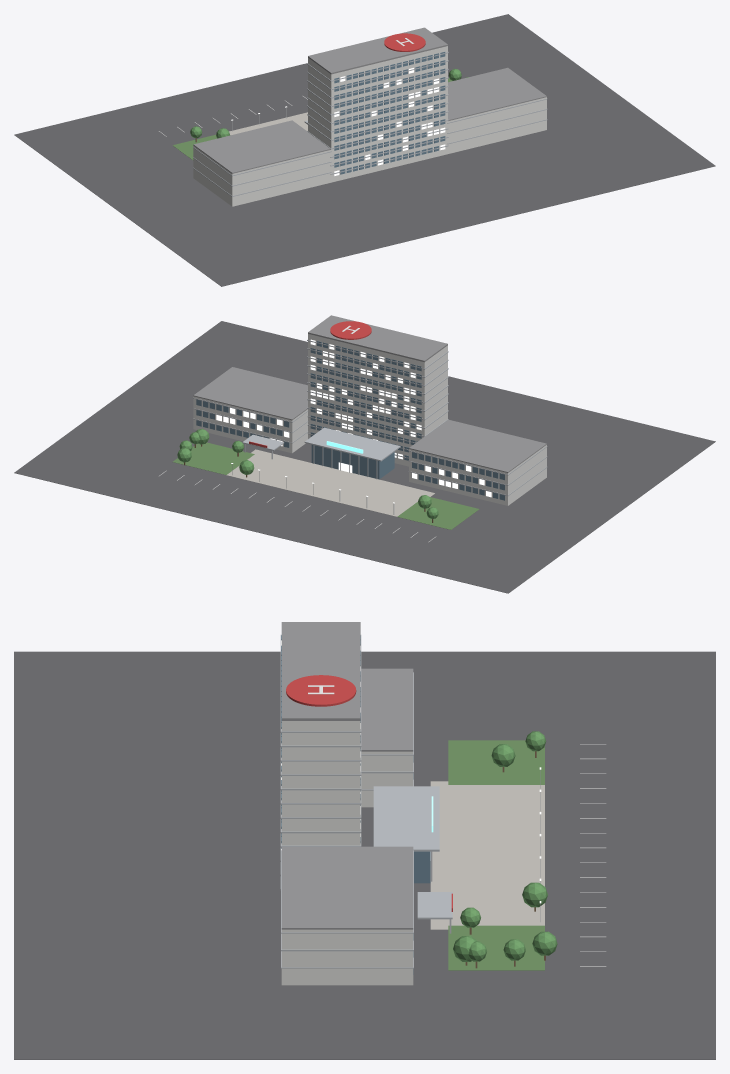
File: klinikum_dortmund.glb
3 views of the same model, one above another, from view 1: azimuth 30°, elevation 25°; view 2: azimuth 150°, elevation 25°; view 3: azimuth 270°, elevation 25° (orthographic). The views are drawn at different scales.
Visible parts, largest first — view 1: Ground, Tower, Wing_-1, Wing_roof_-1, Wing_1, Wing_roof_1, Tower_roof, Helipad, Plaza; view 2: Ground, Tower, Plaza, Wing_roof_-1, Wing_roof_1, Wing_-1, Wing_1, Tower_roof, Lobby_roof, Lobby_glass, Lawn_50, Lawn_-50 (+1 smaller); view 3: Ground, Plaza, Wing_roof_1, Tower, Wing_1, Tower_roof, Wing_roof_-1, Lobby_roof, Lawn_-50, Lawn_50, Wing_-1, Helipad (+1 smaller).
Boxes of the visible parts, x1,y1,x2,y2 form: Ground: [14, 14, 715, 286]; Tower: [308, 46, 447, 182]; Wing_-1: [193, 145, 331, 206]; Wing_roof_-1: [193, 120, 330, 173]; Wing_1: [448, 97, 546, 153]; Wing_roof_1: [448, 67, 546, 120]; Tower_roof: [308, 27, 447, 74]; Helipad: [384, 33, 425, 51]; Plaza: [229, 112, 307, 134]; Ground: [14, 321, 715, 593]; Tower: [308, 334, 447, 466]; Plaza: [226, 449, 434, 516]; Wing_roof_-1: [409, 419, 546, 472]; Wing_roof_1: [193, 367, 307, 420]; Wing_-1: [409, 445, 546, 505]; Wing_1: [193, 396, 307, 453]; Tower_roof: [308, 315, 447, 362]; Lobby_roof: [304, 427, 400, 461]; Lobby_glass: [311, 445, 394, 479]; Lawn_50: [173, 442, 254, 474]; Lawn_-50: [397, 497, 479, 529]; Ground: [14, 651, 715, 1059]; Plaza: [430, 781, 544, 929]; Wing_roof_1: [281, 846, 413, 929]; Tower: [281, 721, 360, 845]; Wing_1: [281, 929, 413, 985]; Tower_roof: [281, 622, 360, 720]; Wing_roof_-1: [361, 668, 413, 751]; Lobby_roof: [373, 786, 439, 851]; Lawn_-50: [448, 740, 544, 784]; Lawn_50: [448, 925, 544, 970]; Wing_-1: [361, 751, 413, 807]; Helipad: [286, 675, 356, 706].
Size of the model in its own units: 220 by 47.43 by 160.
